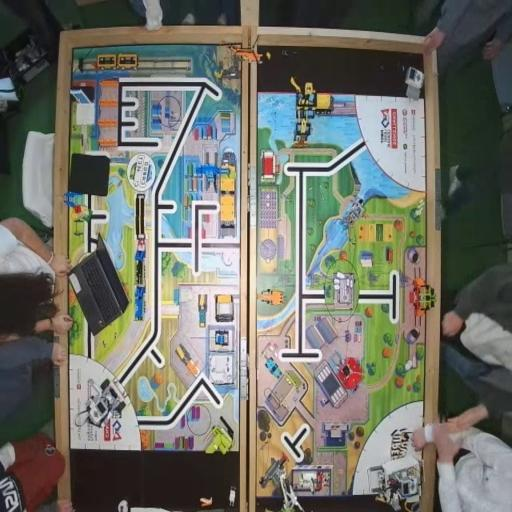lego_robot: (78, 376, 128, 433), (366, 463, 424, 512)
